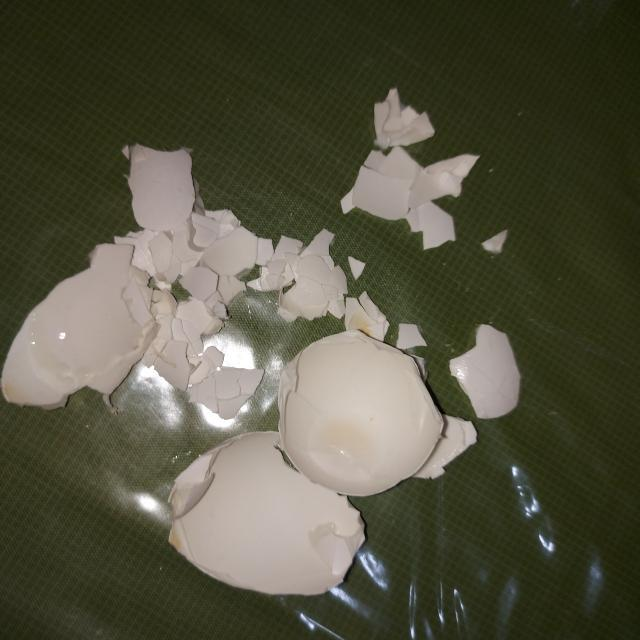egg shell: (166, 429, 368, 597), (274, 330, 444, 500), (0, 242, 154, 412), (115, 207, 342, 321), (342, 144, 479, 252), (155, 320, 271, 420), (345, 252, 429, 348), (446, 322, 524, 420), (120, 140, 198, 228), (372, 85, 436, 152), (433, 416, 481, 480), (480, 224, 510, 256)
